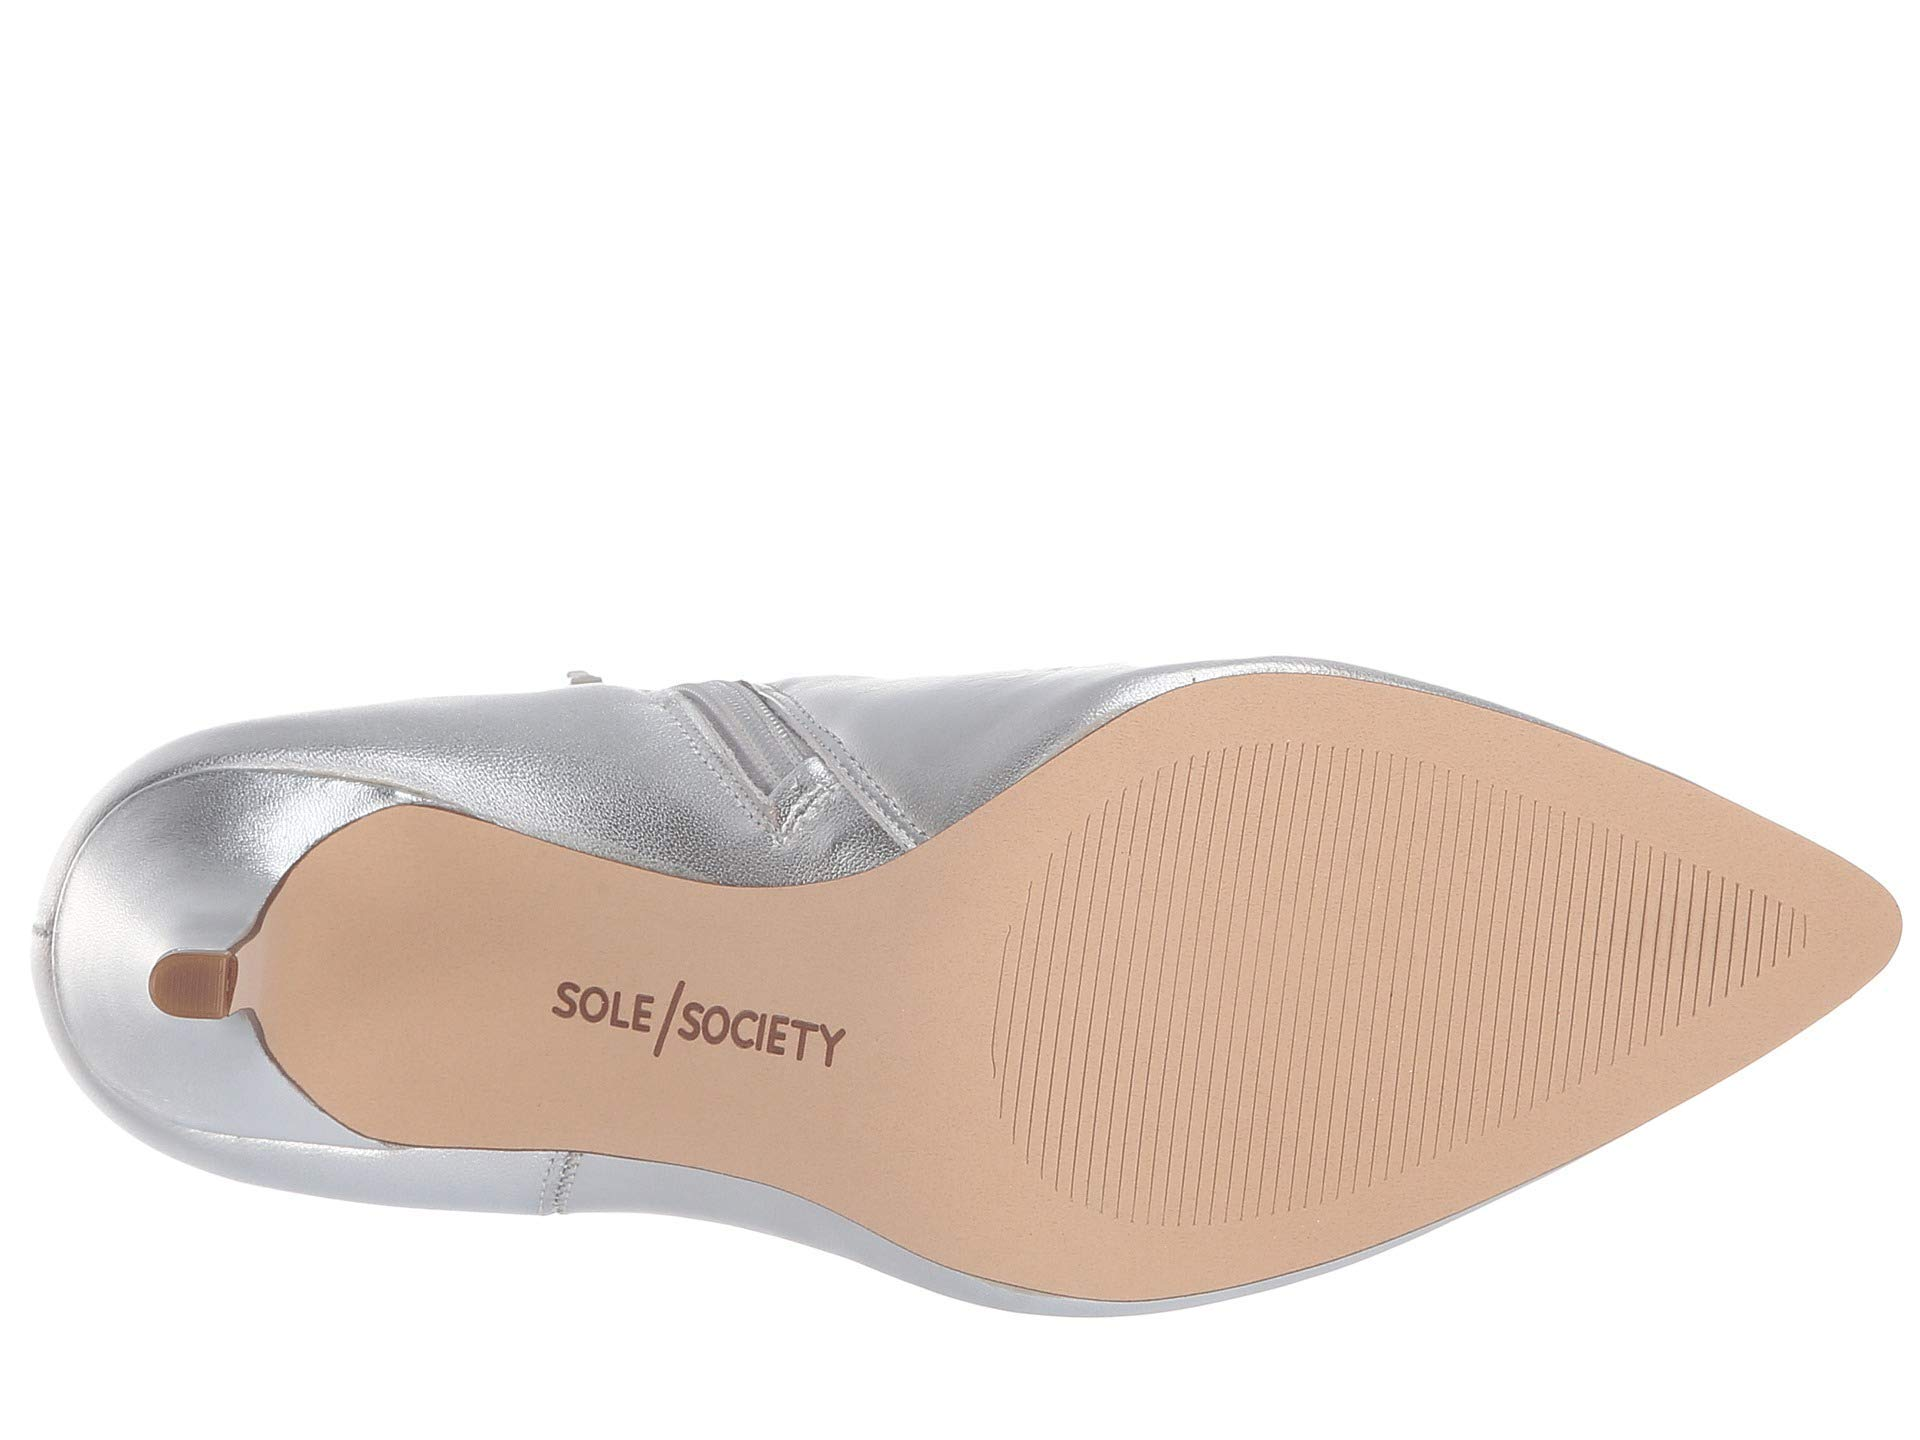line: (1092, 774, 1661, 1115), (165, 959, 225, 1007)
